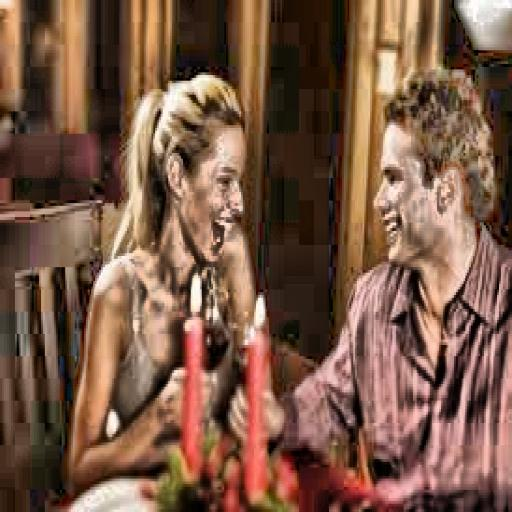fire: (178, 270, 208, 320), (249, 287, 269, 334)
